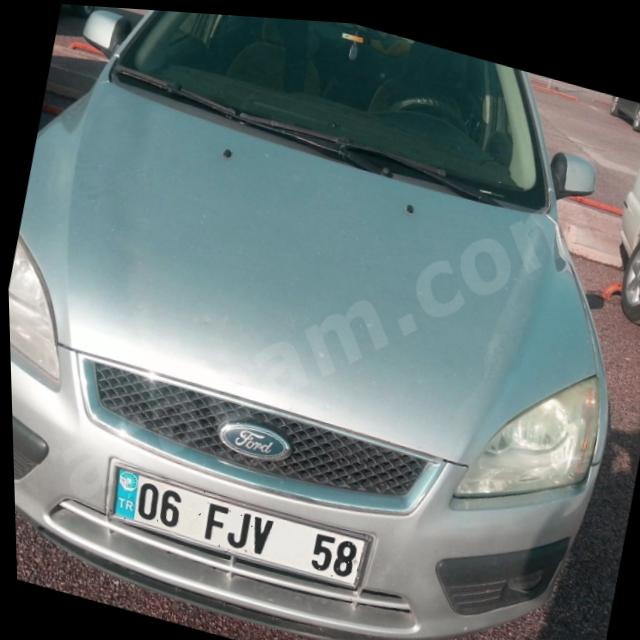license_plate: (102, 463, 364, 582)
